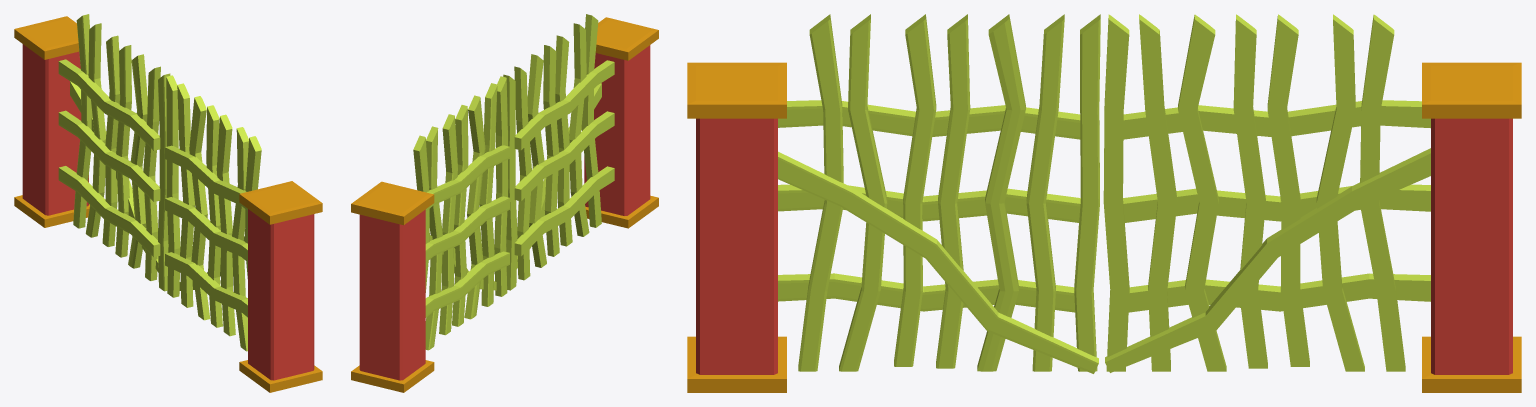
The model's file is PoorGate.fbx.
3 renders of one model, left to right at view 1: azimuth 30°, elevation 25°; view 2: azimuth 150°, elevation 25°; view 3: azimuth 270°, elevation 25°, orthographic. The views are drawn at different scales.
Visible parts, largest first — view 1: Cube.008, Cube.010, Pillar, Pillar.001; view 2: Cube.010, Cube.008, Pillar.001, Pillar; view 3: Cube.008, Cube.010, Pillar, Pillar.001.
Boxes of the visible parts, x1,y1,x2,y2 form: Cube.008: (58, 14, 170, 291); Cube.010: (165, 75, 261, 351); Pillar: (239, 181, 322, 392); Pillar.001: (14, 16, 89, 227); Cube.010: (503, 14, 614, 290); Cube.008: (413, 76, 509, 350); Pillar.001: (351, 181, 434, 392); Pillar: (584, 17, 658, 228); Cube.008: (1103, 14, 1430, 372); Cube.010: (778, 14, 1100, 373); Pillar: (687, 62, 786, 392); Pillar.001: (1422, 62, 1521, 392).
Size of the model in its own units: 243 by 956 by 2034.
